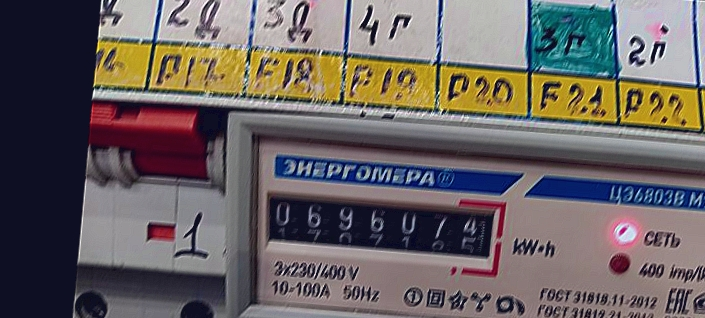0: (273, 198, 295, 225), (400, 206, 419, 234)
4: (462, 211, 480, 234)
5: (460, 234, 478, 255)
6: (368, 203, 388, 232), (305, 200, 326, 226)
7: (432, 210, 450, 238)
9: (337, 202, 355, 229)
screen: (252, 176, 511, 279)
